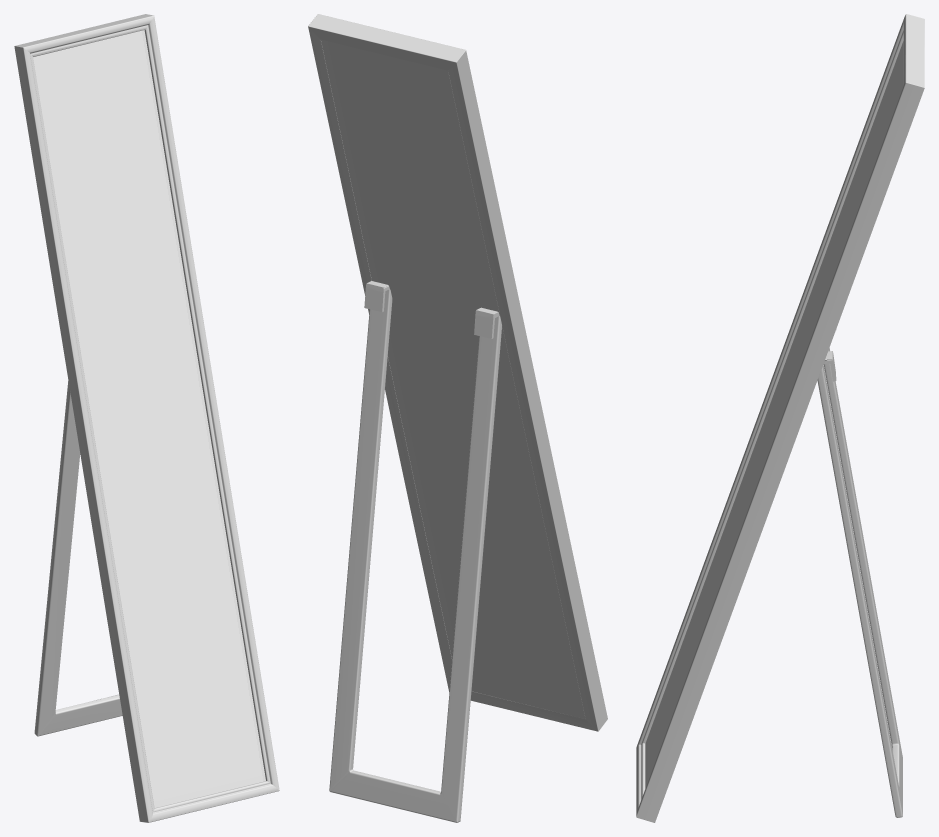
Rendered from flaknan_lustro_stojace_40341568.glb.
3 renders of one model, left to right at view 1: azimuth 30°, elevation 25°; view 2: azimuth 150°, elevation 25°; view 3: azimuth 270°, elevation 25°, orthographic. The views are drawn at different scales.
Parts seen in each view (by area): view 1: flaknan_lustro_stojace_40341568; view 2: flaknan_lustro_stojace_40341568; view 3: flaknan_lustro_stojace_40341568.
Boxes of the visible parts, bbox=[...] form: flaknan_lustro_stojace_40341568: bbox=[14, 14, 279, 822]; flaknan_lustro_stojace_40341568: bbox=[308, 14, 607, 822]; flaknan_lustro_stojace_40341568: bbox=[636, 14, 924, 822].
Size of the model in its own units: 0.3 by 1.5 by 0.5299.
1 material, 1 textured.
